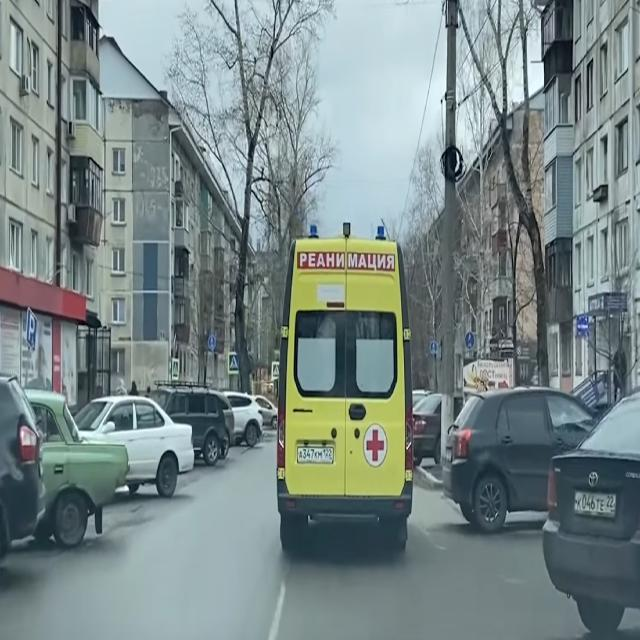intensive care unit: (276, 217, 416, 563)
non emergency car: (444, 386, 601, 533), (547, 384, 640, 632), (16, 393, 129, 550), (76, 393, 194, 499), (3, 372, 43, 579), (151, 387, 227, 469), (230, 390, 264, 451)
